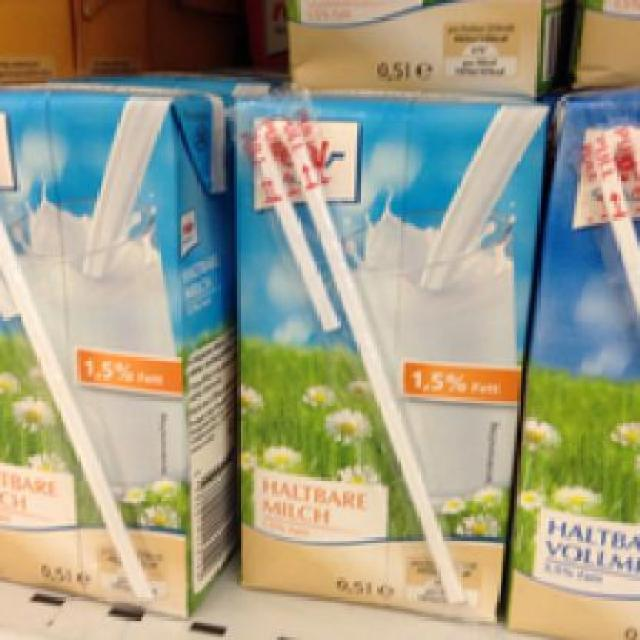Milk: (222, 94, 518, 637), (0, 77, 240, 617), (508, 91, 634, 632)
